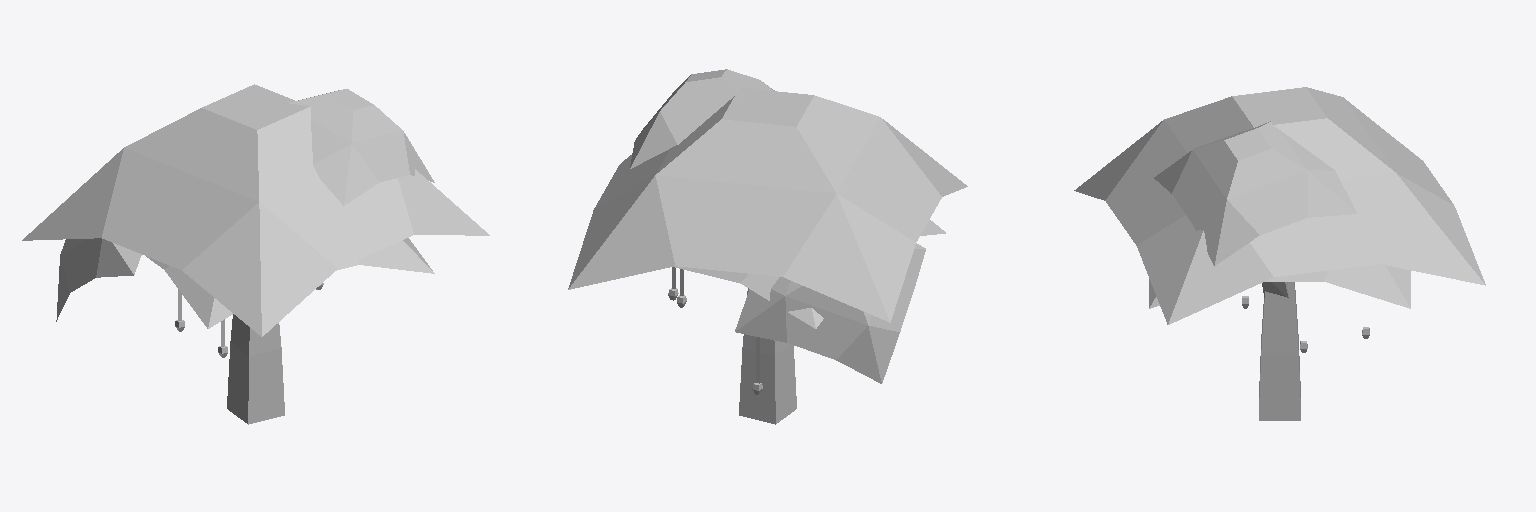
File: svetjaschijsja_oduvanchik_001.obj
3 views of the same model, side by side, from view 1: azimuth 30°, elevation 25°; view 2: azimuth 150°, elevation 25°; view 3: azimuth 270°, elevation 25° (orthographic).
Parts seen in each view (by area): view 1: Светящийся_одуванчик.001; view 2: Светящийся_одуванчик.001; view 3: Светящийся_одуванчик.001.
Boxes of the visible parts, <box> form: Светящийся_одуванчик.001: <box>22,84,489,424</box>; Светящийся_одуванчик.001: <box>568,69,967,424</box>; Светящийся_одуванчик.001: <box>1074,87,1485,420</box>.
Size of the model in its own units: 5.58 by 4.67 by 5.58.